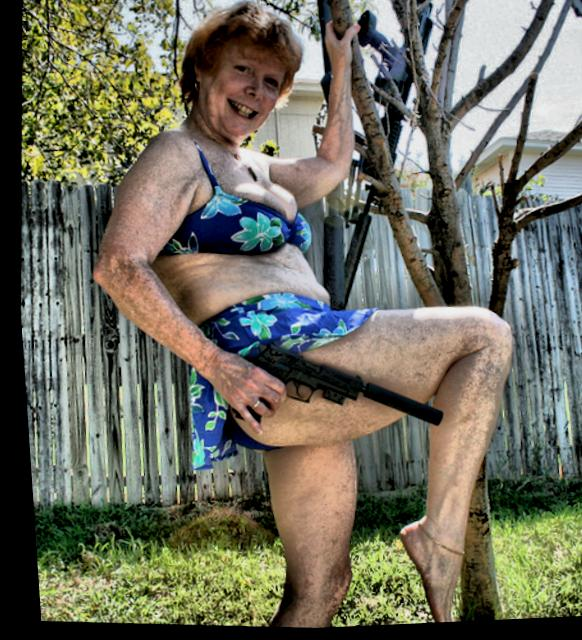pistol: (218, 335, 362, 438)
